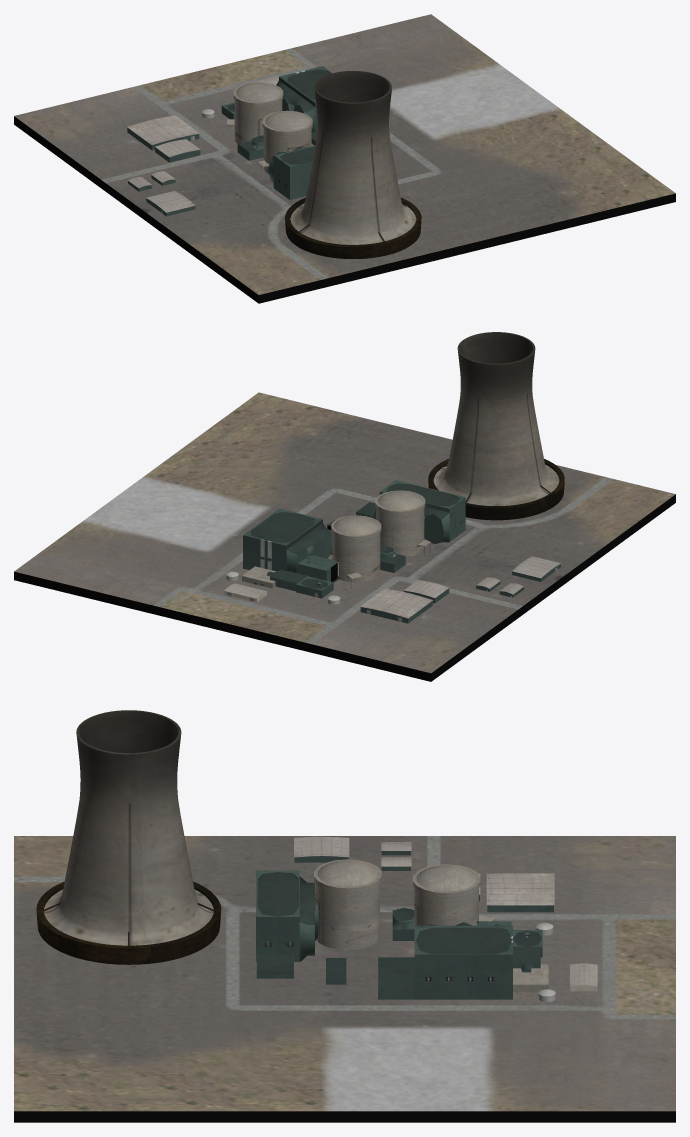
File: Nuclear factrory.fbx
3 views of the same model, one above another, from view 1: azimuth 30°, elevation 25°; view 2: azimuth 150°, elevation 25°; view 3: azimuth 270°, elevation 25° (orthographic). The views are drawn at different scales.
Parts seen in each view (by area): view 1: polySurface54, polySurface28, polySurface55, polySurface1, polySurface15, polySurface46, polySurface47, polySurface50, polySurface49, polySurface5; view 2: polySurface54, polySurface28, polySurface46, polySurface55, polySurface1, polySurface15, polySurface47, polySurface41, polySurface50, polySurface49, polySurface43, polySurface5 (+2 smaller); view 3: polySurface54, polySurface28, polySurface46, polySurface1, polySurface15, polySurface55, polySurface47, polySurface53, polySurface50, polySurface26, polySurface45, polySurface48 (+2 smaller).
Boxes of the visible parts, <box> form: polySurface54: <box>14,14,675,303</box>; polySurface28: <box>285,71,421,258</box>; polySurface55: <box>233,82,283,143</box>; polySurface1: <box>262,110,312,173</box>; polySurface15: <box>268,145,315,199</box>; polySurface46: <box>276,66,332,131</box>; polySurface47: <box>127,115,199,150</box>; polySurface50: <box>146,190,195,216</box>; polySurface49: <box>155,139,200,162</box>; polySurface5: <box>237,135,263,160</box>; polySurface54: <box>14,392,675,681</box>; polySurface28: <box>428,332,564,520</box>; polySurface46: <box>243,508,332,572</box>; polySurface55: <box>331,515,381,582</box>; polySurface1: <box>375,490,425,557</box>; polySurface15: <box>374,480,465,543</box>; polySurface47: <box>360,588,433,623</box>; polySurface41: <box>295,555,338,582</box>; polySurface50: <box>511,556,561,581</box>; polySurface49: <box>403,580,449,603</box>; polySurface43: <box>296,576,333,598</box>; polySurface5: <box>380,545,405,572</box>; polySurface54: <box>14,836,675,1122</box>; polySurface28: <box>36,710,221,964</box>; polySurface46: <box>414,922,512,999</box>; polySurface1: <box>314,859,381,950</box>; polySurface15: <box>256,870,319,961</box>; polySurface55: <box>413,864,480,943</box>; polySurface47: <box>486,873,554,912</box>; polySurface53: <box>378,957,414,999</box>; polySurface50: <box>294,836,349,862</box>; polySurface26: <box>256,955,293,978</box>; polySurface45: <box>513,964,548,991</box>; polySurface48: <box>570,963,597,991</box>.
Bounding box in the file's own units: 3231 × 1127 × 3284.
Materials: 1 (1 with a texture image).
